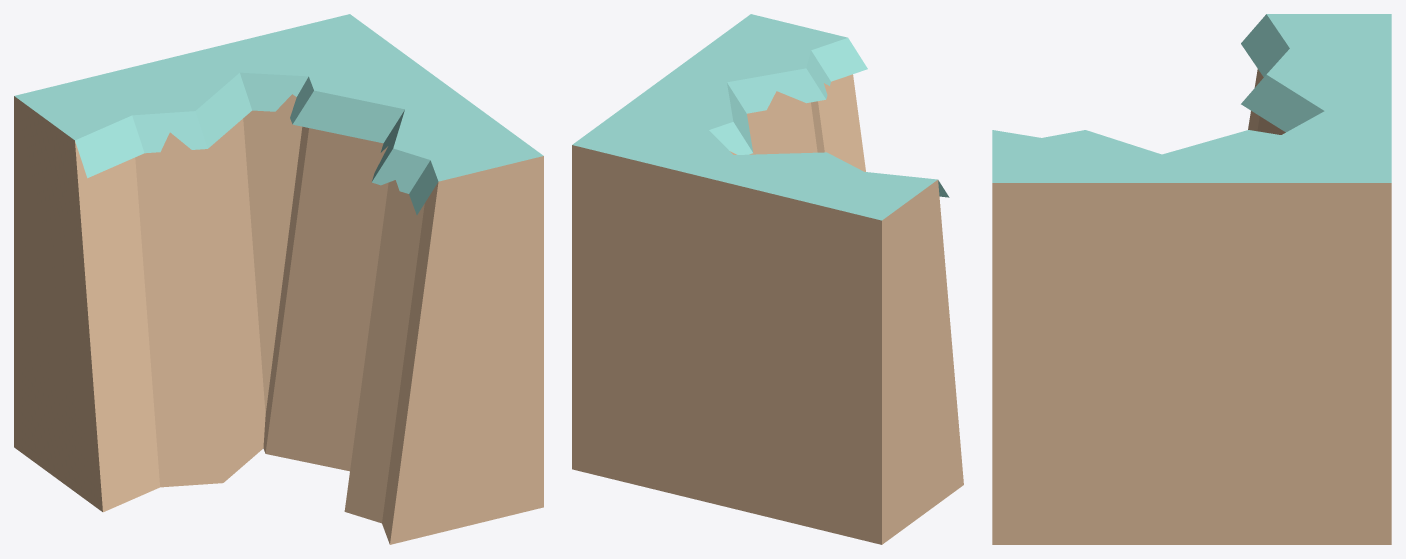
The model's file is cliffBrown_cornerInnerTop.gltf.
The picture shows the model from 3 angles, left to right: view 1: azimuth 30°, elevation 25°; view 2: azimuth 150°, elevation 25°; view 3: azimuth 270°, elevation 25°; orthographic projection. The views are drawn at different scales.
Visible parts, largest first — view 1: cliffBrown_cornerInnerTop; view 2: cliffBrown_cornerInnerTop; view 3: cliffBrown_cornerInnerTop.
Boxes of the visible parts, bbox=[...] form: cliffBrown_cornerInnerTop: bbox=[14, 14, 543, 544]; cliffBrown_cornerInnerTop: bbox=[572, 14, 963, 544]; cliffBrown_cornerInnerTop: bbox=[992, 14, 1391, 544].
Size of the model in its own units: 10 by 10 by 10.
